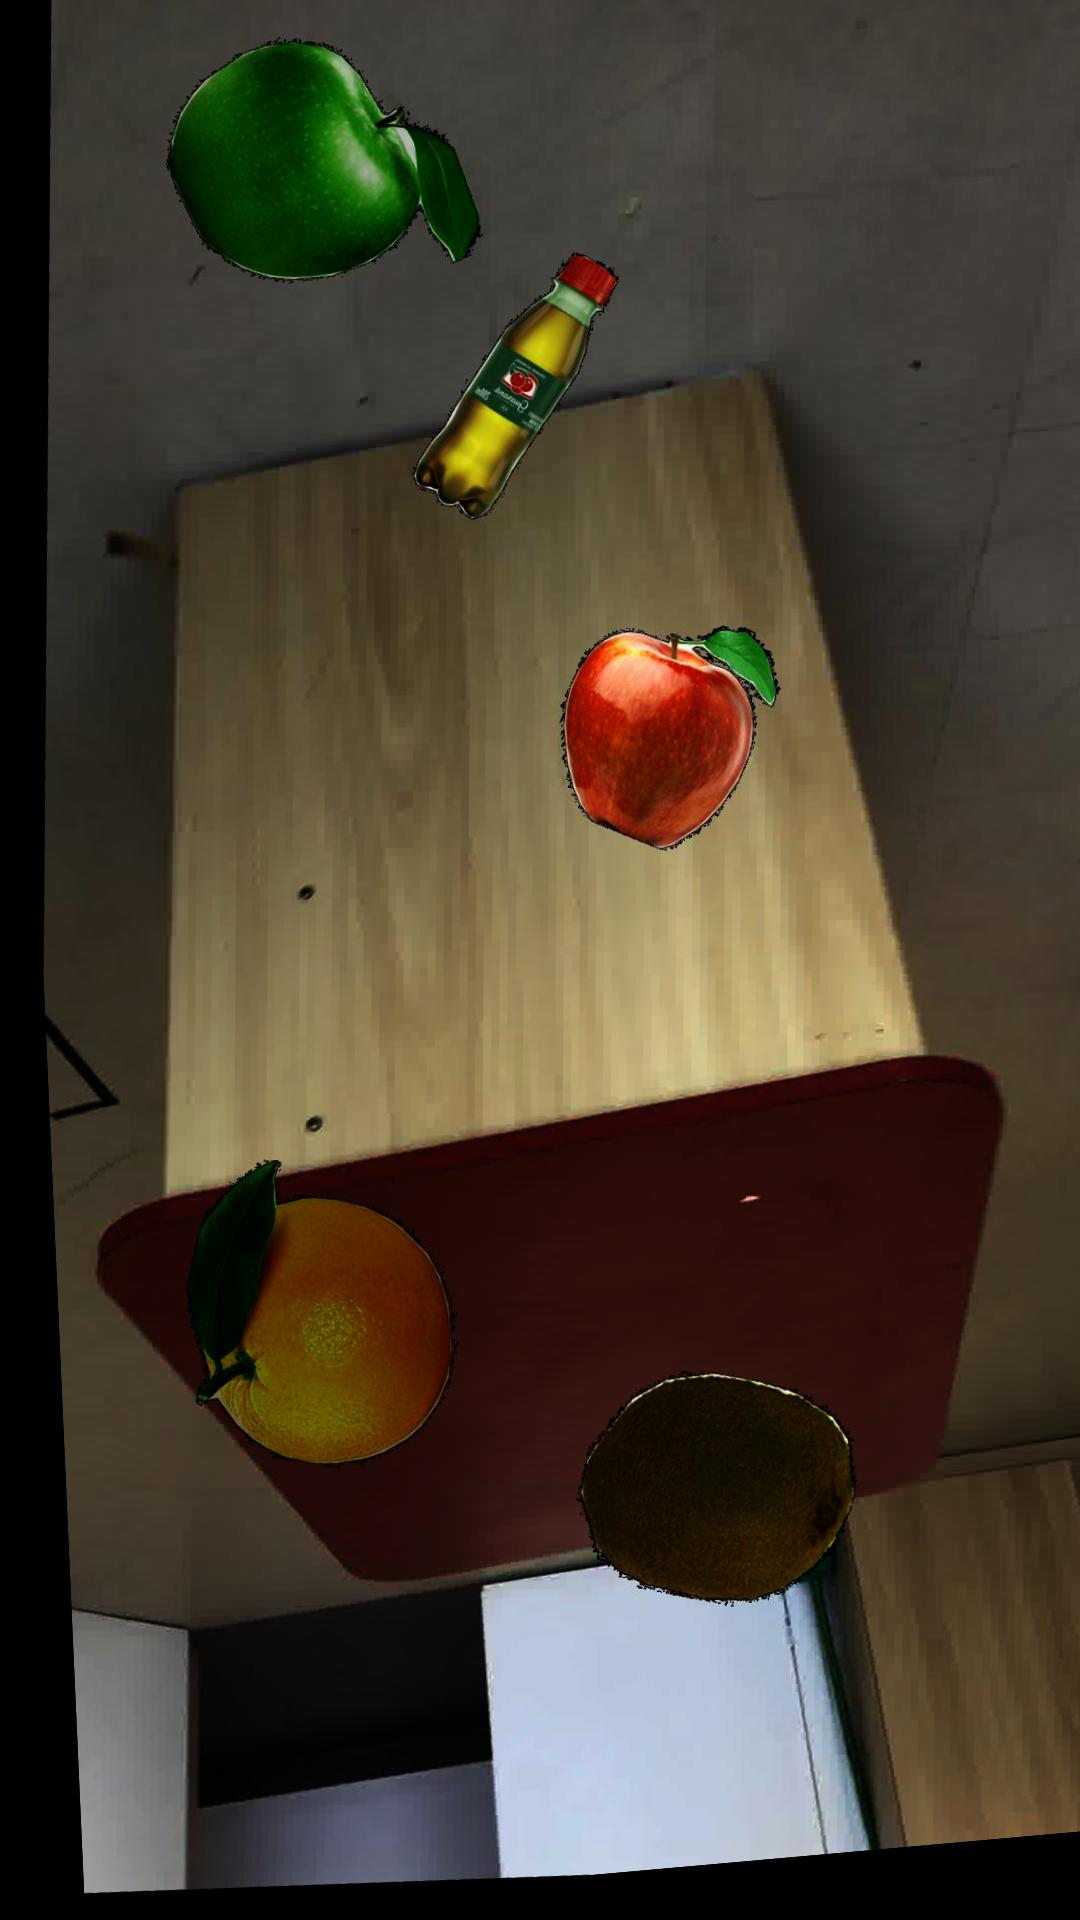apple: (554, 640, 773, 861)
green apple: (165, 44, 477, 286)
guarana: (409, 264, 615, 527)
kiwi: (564, 1385, 843, 1614)
orange: (174, 1164, 443, 1470)
